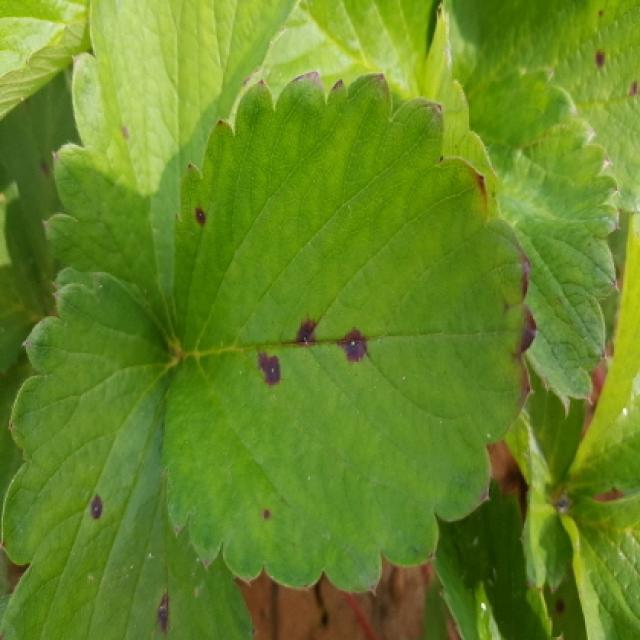Leaf Spot: (161, 71, 541, 595), (0, 269, 254, 638), (42, 0, 301, 356), (465, 0, 638, 213), (0, 68, 82, 319), (542, 555, 590, 638)
